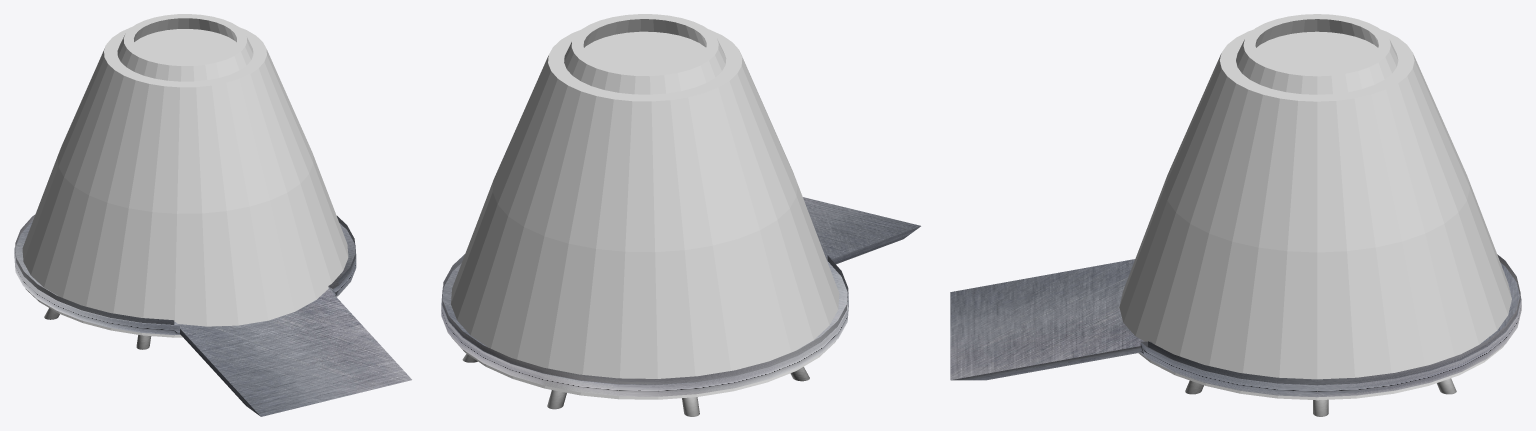
The model's file is платформа.fbx.
The picture shows the model from 3 angles, left to right: view 1: azimuth 30°, elevation 25°; view 2: azimuth 150°, elevation 25°; view 3: azimuth 270°, elevation 25°; orthographic projection. The views are drawn at different scales.
Parts seen in each view (by area): view 1: Cylinder.084, Cube.044, Cylinder.085, Cylinder, Cylinder.001; view 2: Cylinder.084, Cylinder.085, Cylinder, Cube.044, Cylinder.001; view 3: Cylinder.084, Cube.044, Cylinder.085, Cylinder, Cylinder.001.
Boxes of the visible parts, x1,y1,x2,y2 form: Cylinder.084: (22, 27, 348, 337); Cube.044: (178, 289, 411, 416); Cylinder.085: (117, 14, 253, 81); Cylinder: (14, 221, 356, 335); Cylinder.001: (15, 214, 355, 324); Cylinder.084: (451, 29, 839, 399); Cylinder.085: (564, 14, 726, 94); Cylinder: (441, 260, 848, 396); Cube.044: (803, 197, 920, 264); Cylinder.001: (442, 254, 848, 384); Cylinder.084: (1119, 29, 1511, 400); Cube.044: (950, 259, 1144, 380); Cylinder.085: (1236, 14, 1398, 94); Cylinder: (1140, 263, 1521, 397); Cylinder.001: (1148, 254, 1520, 385).
Bounding box in the file's own units: 1396 × 1104 × 1951.
